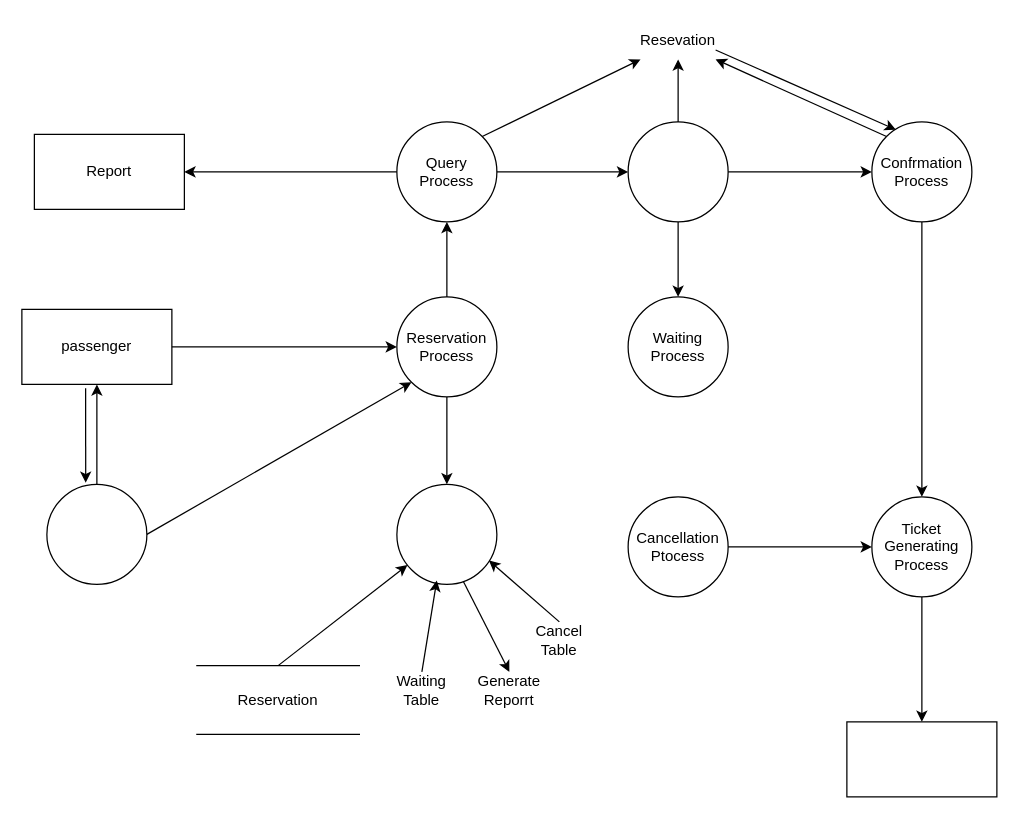
Some shapes in this 1019 by 819 pixel diagram are drawn without their labels. Here are the shapes that lost their labels. From the top down, the centre of each, then its label:
At point (677, 171): "Searching Process".
At point (96, 533): "Enquiry Process".
At point (446, 533): "Railway Department".
At point (921, 759): "Generate Ticket".
